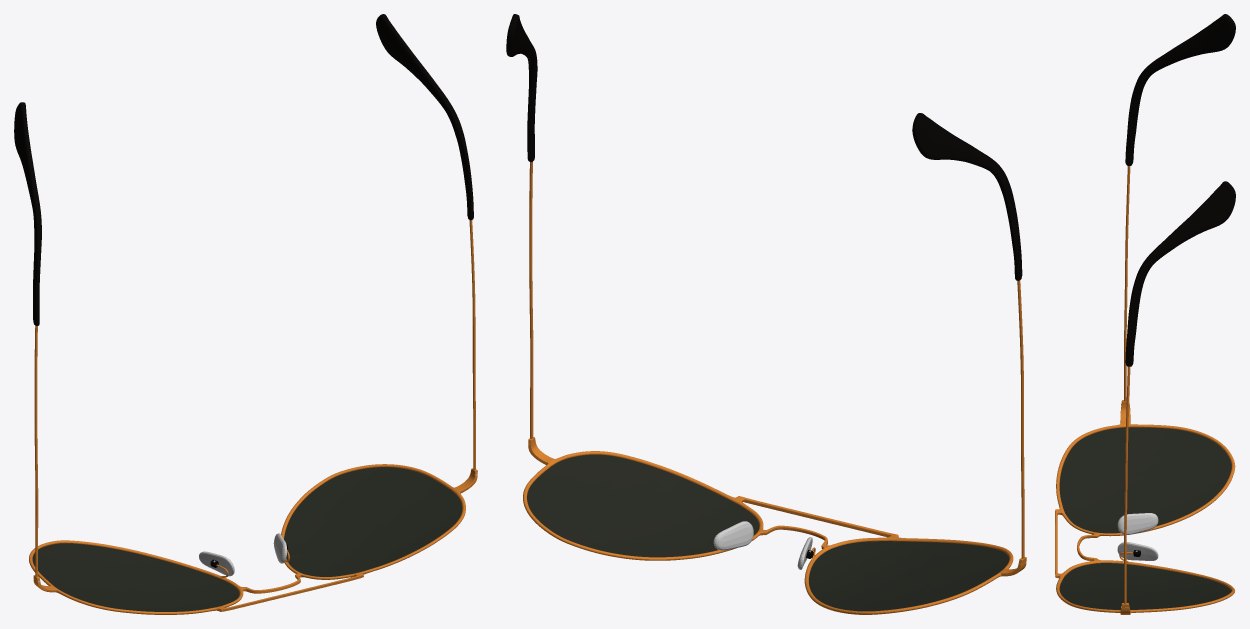
File: glasses_1.obj
3 renders of one model, left to right at view 1: azimuth 30°, elevation 25°; view 2: azimuth 150°, elevation 25°; view 3: azimuth 270°, elevation 25°, orthographic. The views are drawn at different scales.
Parts seen in each view (by area): view 1: material_1, material_0, material_2, material_3; view 2: material_1, material_0, material_2, material_3; view 3: material_1, material_2, material_0, material_3.
Boxes of the visible parts, x1,y1,x2,y2 form: material_1: (32, 467, 462, 611); material_0: (29, 220, 477, 614); material_2: (14, 14, 473, 567); material_3: (199, 533, 286, 576); material_1: (527, 454, 1009, 611); material_0: (523, 162, 1026, 614); material_2: (506, 14, 1022, 558); material_3: (713, 521, 812, 569); material_1: (1059, 427, 1231, 609); material_2: (1125, 14, 1235, 556); material_0: (1055, 166, 1235, 614); material_3: (1117, 513, 1158, 560).
Bounding box in the file's own units: 13.96 × 14.4 × 5.22.
